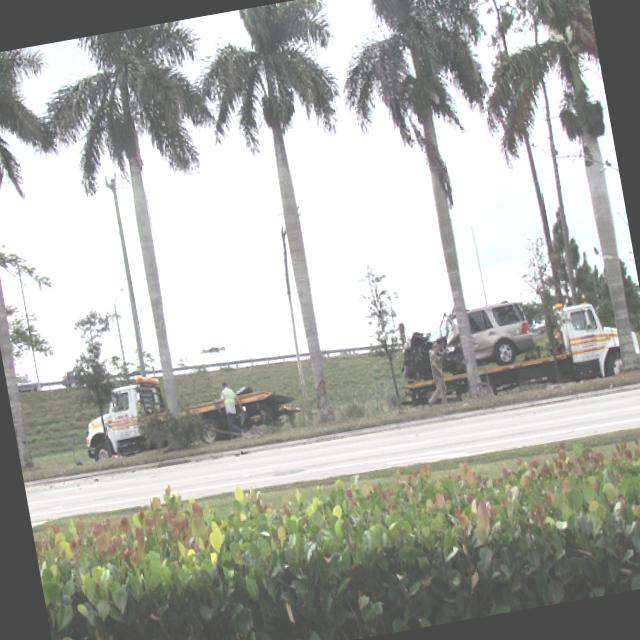Vehicle: (396, 290, 640, 411), (75, 350, 304, 466), (396, 292, 545, 388)
